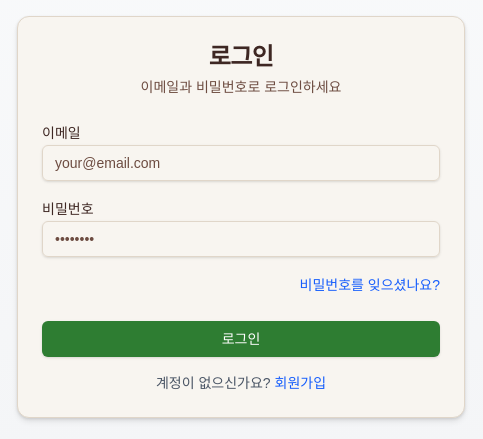
LoginPage › 폼 제출 › 로그인 진행 중 로딩 상태가 표시된다
This screenshot has width=483, height=439.
Type "test@example.com" into the field labelled "이메일" at (241, 163), box top-left (42, 145), bottom-right (440, 181)
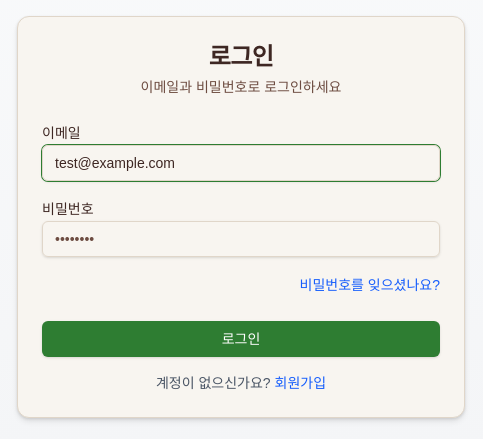
Type "Password123!" into the password field labelled "비밀번호" at (241, 239), box top-left (42, 221), bottom-right (440, 257)
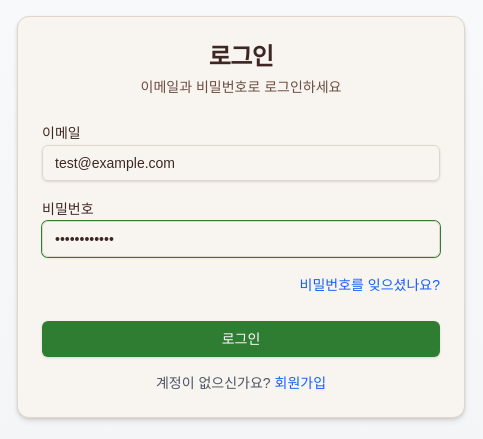
Click the button "로그인" at (241, 339), box top-left (42, 321), bottom-right (440, 357)
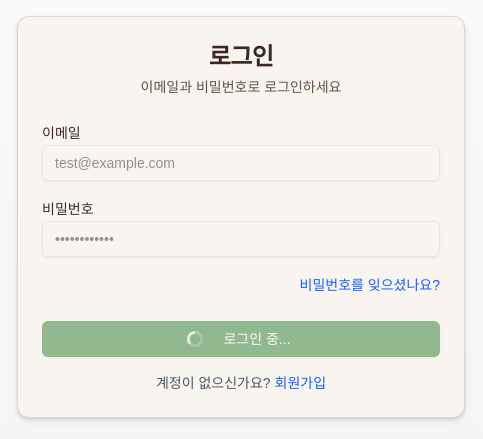
Expected: the button "로그인 중..." is disabled, top-left (42, 321), bottom-right (440, 357)
